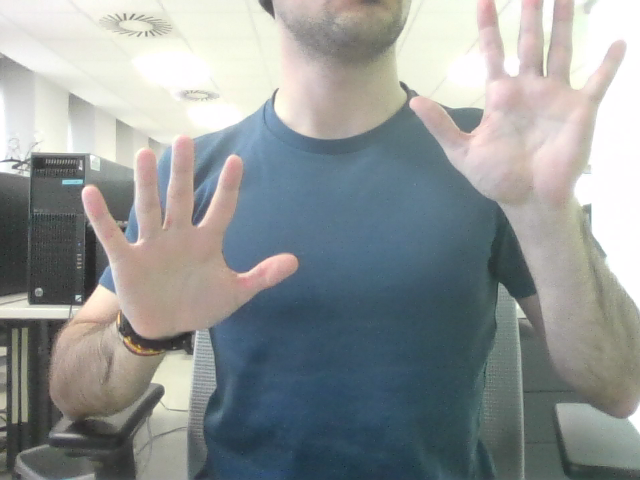Manos Arriba: (117, 5, 592, 296)
